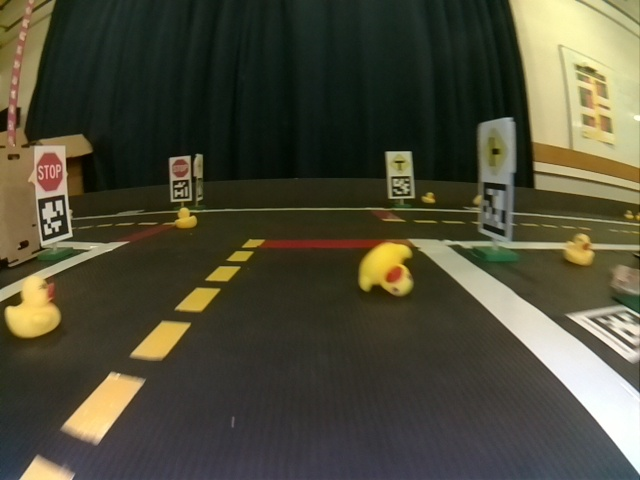Duckie: (5, 277, 60, 338), (359, 244, 414, 296), (564, 233, 594, 266), (177, 208, 197, 228), (423, 194, 436, 203)
Intersection sign: (481, 127, 509, 174), (389, 154, 410, 174), (195, 157, 204, 174)
QR code: (567, 305, 639, 363), (481, 180, 509, 235), (37, 195, 69, 242), (390, 176, 413, 197), (171, 181, 190, 200), (195, 179, 204, 200)
Stop sign: (36, 152, 65, 191), (171, 158, 189, 178)
